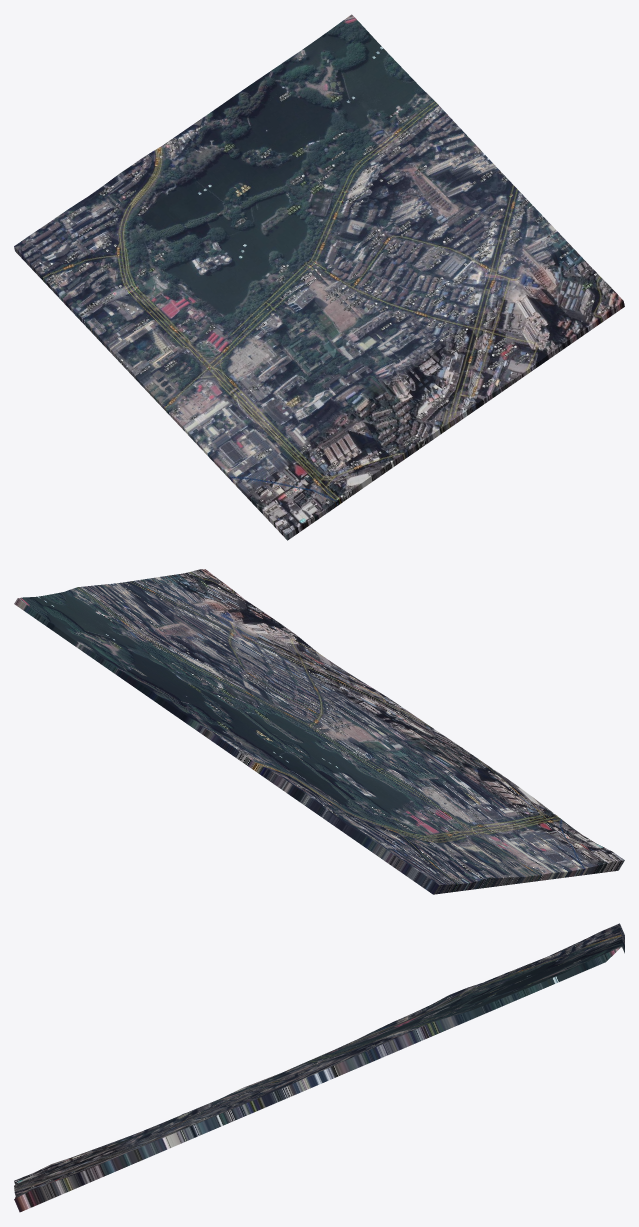
The picture shows the model from 3 angles, top to bottom: view 1: azimuth 30°, elevation 25°; view 2: azimuth 150°, elevation 25°; view 3: azimuth 270°, elevation 25°; orthographic projection. The views are drawn at different scales.
Visible parts, largest first — view 1: 1_3_4; view 2: 1_3_4; view 3: 1_3_4.
Boxes of the visible parts, box(x1,y1,x2,y2) form: 1_3_4: box(14, 14, 624, 540); 1_3_4: box(14, 569, 624, 894); 1_3_4: box(14, 923, 624, 1212).
Size of the model in its own units: 1231 by 896 by 1129.
Materials: 1 (1 with a texture image).
